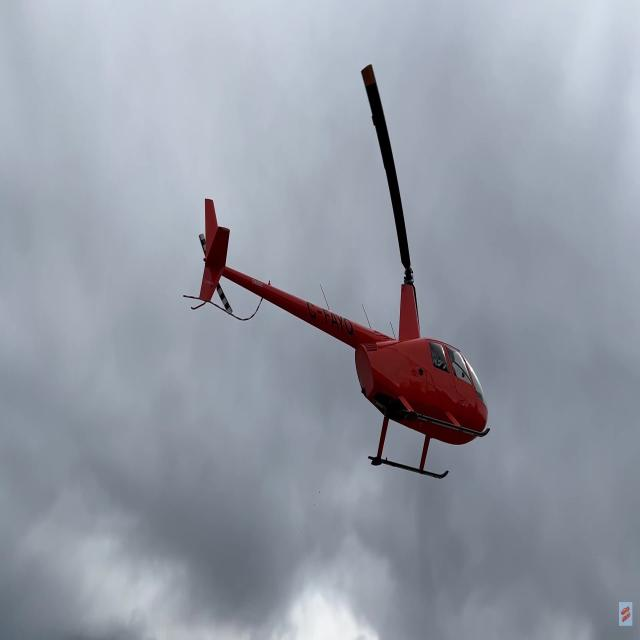CIV_HELO: (198, 196, 491, 484)
